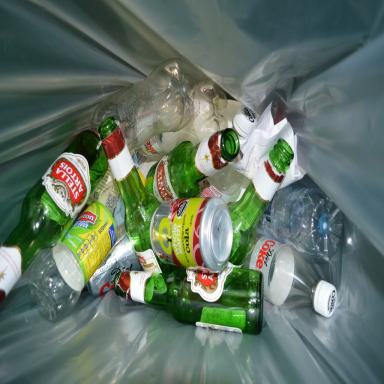bottle: (0, 59, 345, 336)
plasticbag: (0, 0, 383, 383)
